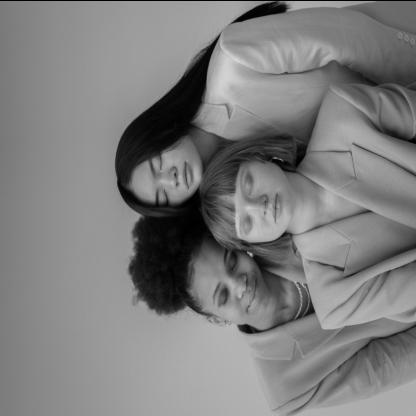Eye: (244, 170, 253, 196), (218, 285, 229, 306), (228, 248, 238, 271), (243, 213, 252, 234), (155, 152, 164, 170), (161, 187, 169, 204)
Mouth: (246, 275, 260, 309), (271, 190, 282, 221), (181, 160, 192, 189)
Nose: (229, 273, 248, 298), (249, 194, 267, 217), (161, 166, 179, 188)
